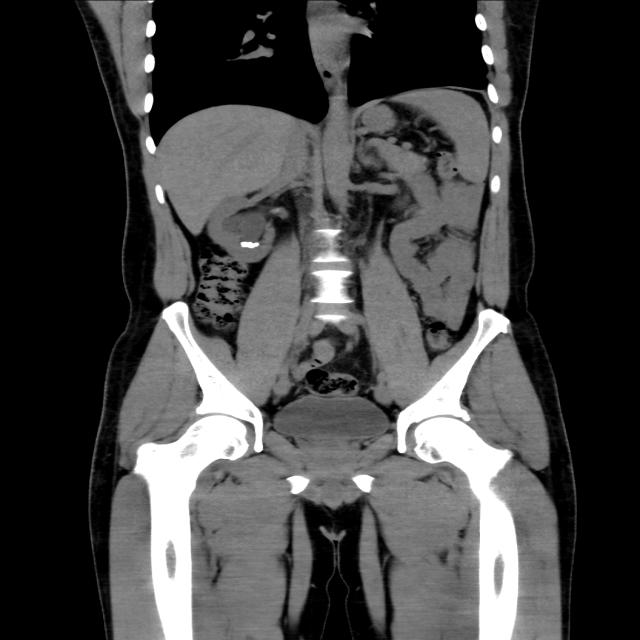kidneystone: (240, 241, 260, 248)
